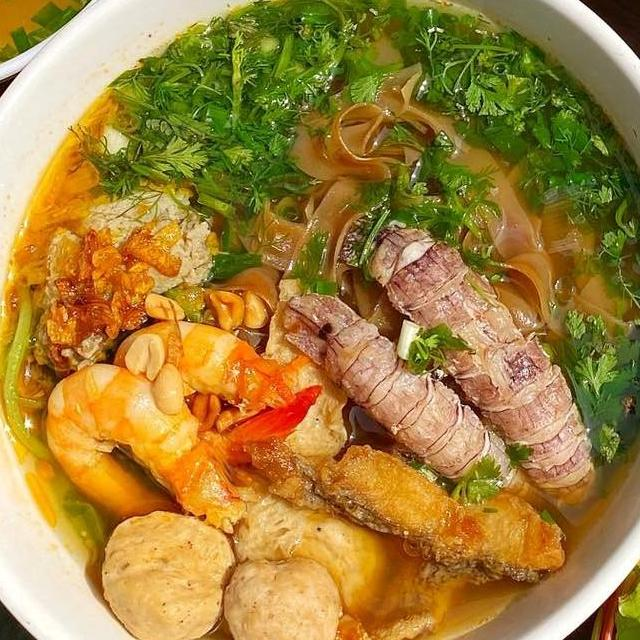ca: (237, 428, 572, 592)
tom: (31, 356, 260, 542), (102, 312, 328, 466)
tom tit: (332, 205, 604, 512), (274, 288, 552, 522)
